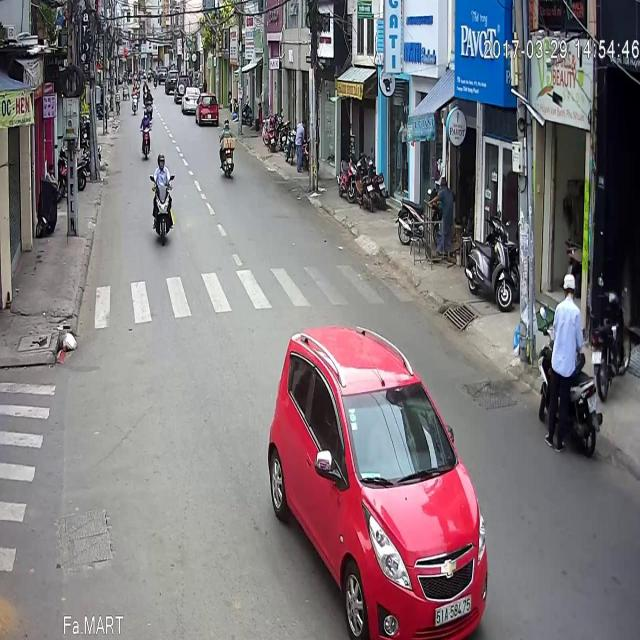car: (267, 265, 487, 609), (195, 34, 219, 68)
motorcycle: (149, 95, 175, 188), (218, 60, 236, 121), (139, 51, 152, 102)
